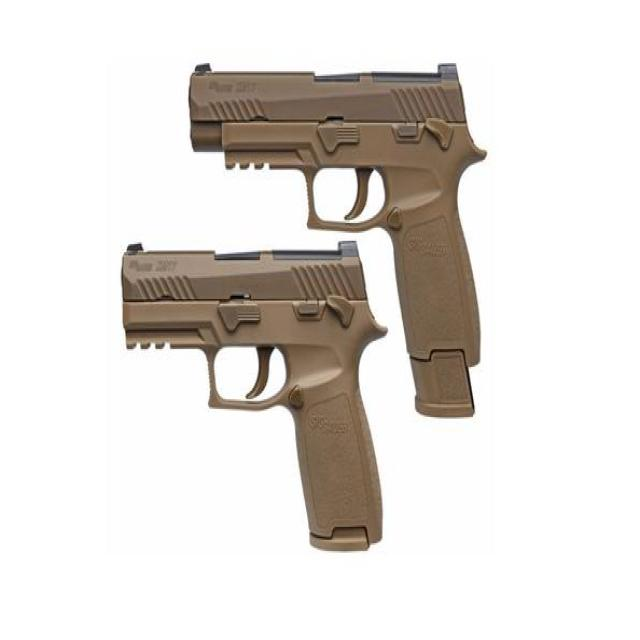Weapon: (189, 65, 485, 415), (123, 242, 386, 549)
